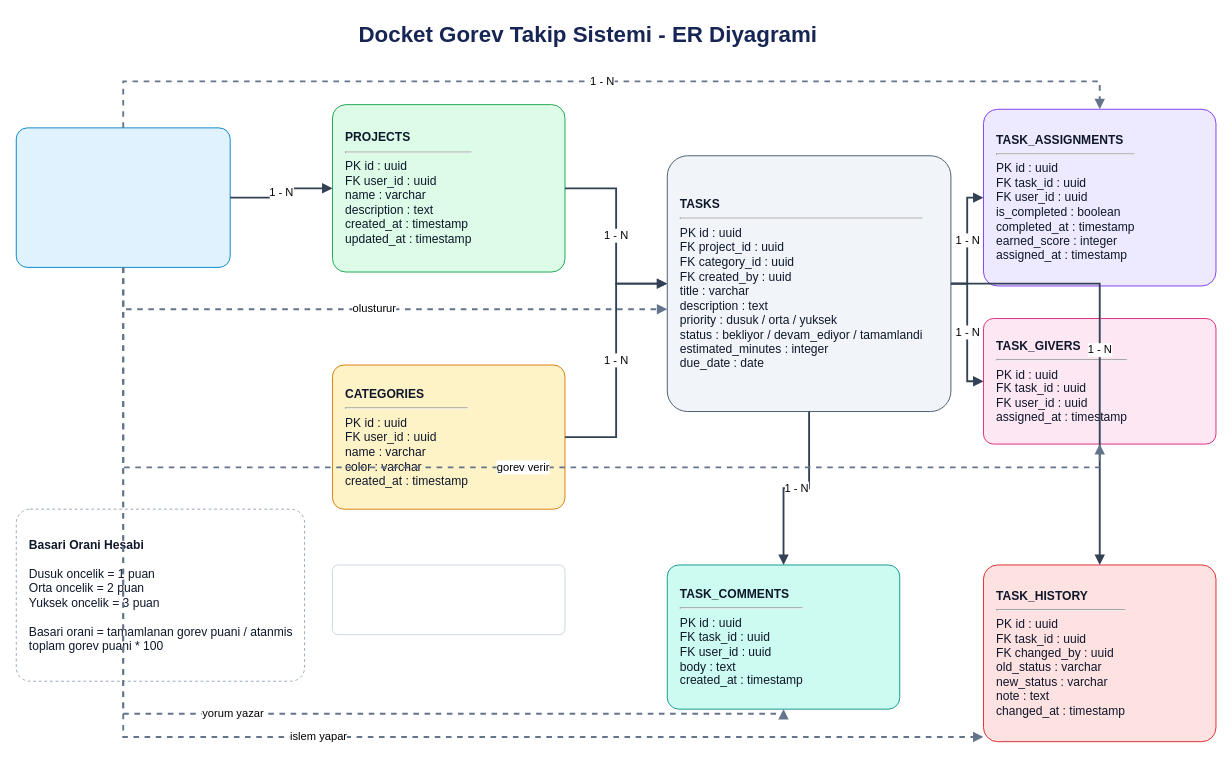
Some shapes in this 1232 by 761 pixel diagram are drawn without their labels. Here are the shapes that lost their labels. From the top down, the centre of each, then its label:
At (122,197): "USERS PK id : uuid full_name : varchar email : varchar created_at : timestamp".
At (448,599): "PK = Primary Key / Birincil Anahtar FK = Foreign Key / Iliski Anahtari".
